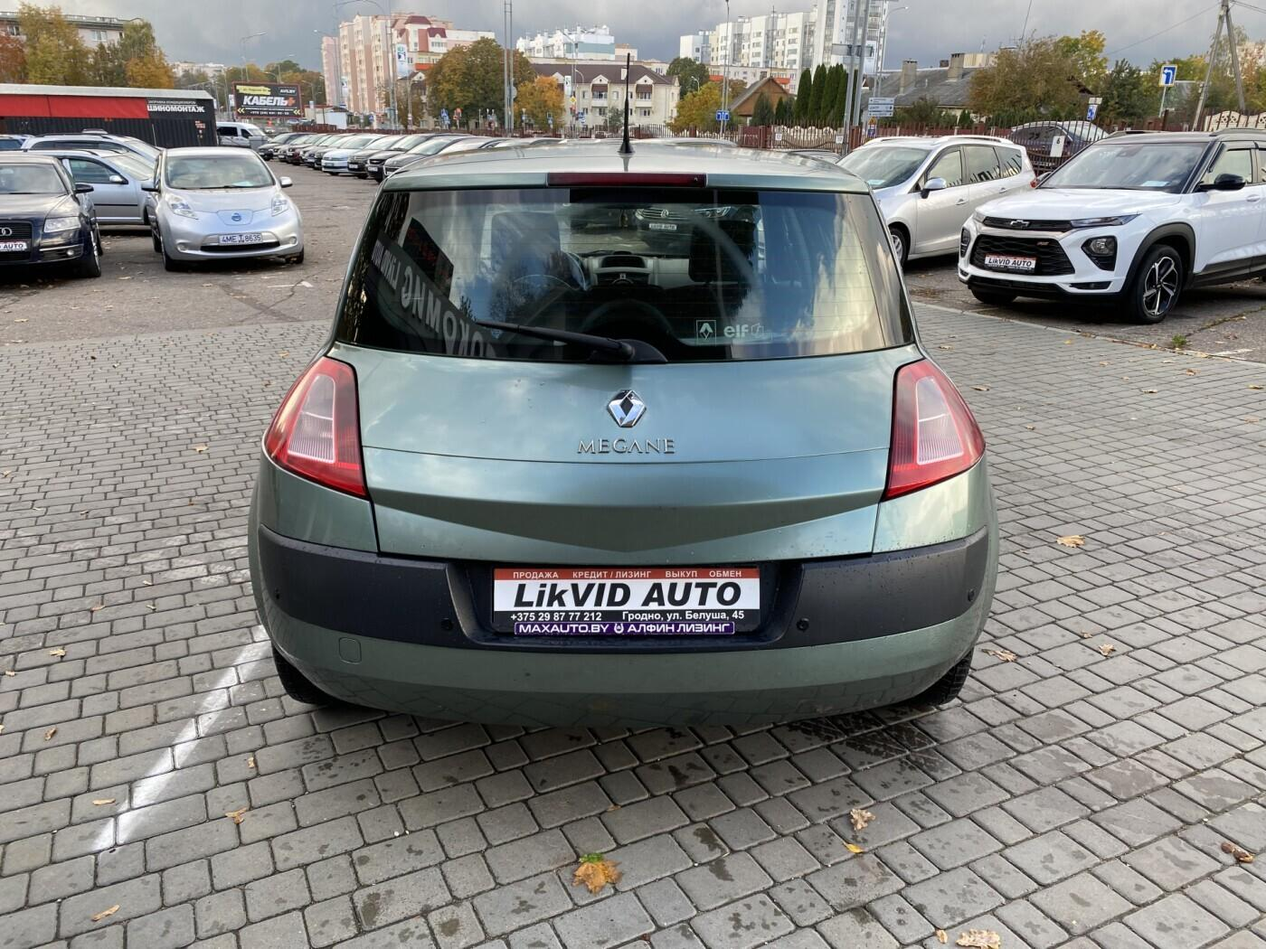Megane_2002-2006: (238, 141, 1004, 770)
